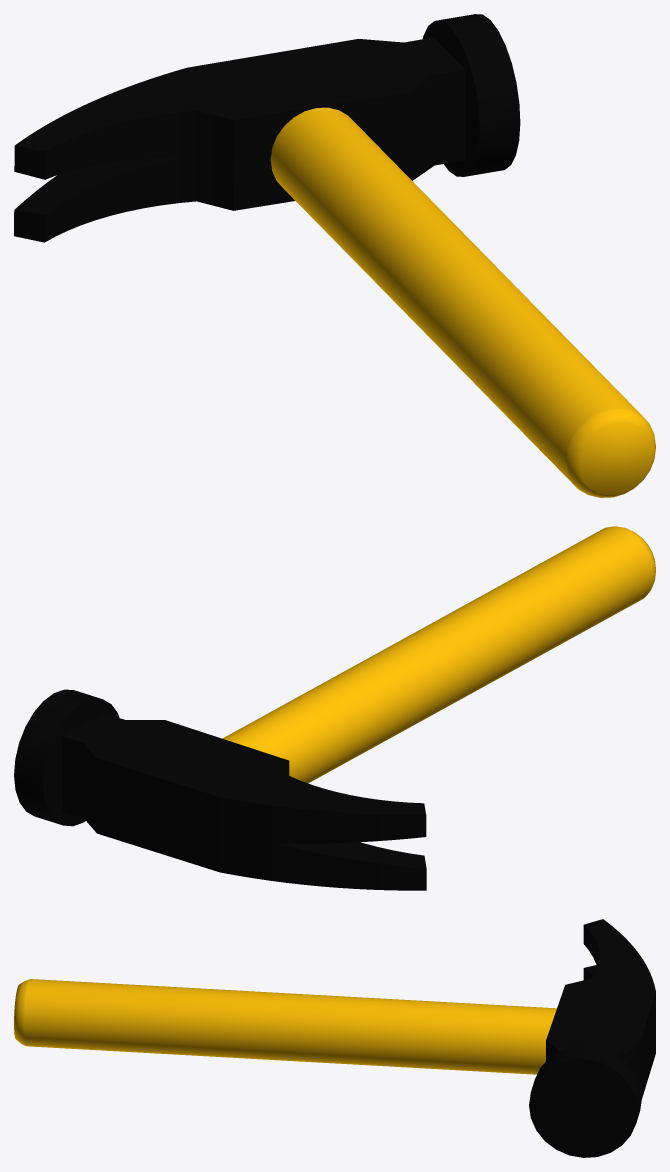
File: hammer_03_origin_gt_1.dae
The picture shows the model from 3 angles, top to bottom: view 1: azimuth 30°, elevation 25°; view 2: azimuth 150°, elevation 25°; view 3: azimuth 270°, elevation 25°; orthographic projection. The views are drawn at different scales.
Parts seen in each view (by area): view 1: Component_2 (×2), Component_3; view 2: Component_2 (×2), Component_3; view 3: Component_3, Component_2 (×2).
Part boxes in pixels (x1,y1,x2,y2): Component_2 (×2): (14, 14, 520, 242); Component_3: (270, 107, 655, 497); Component_2 (×2): (14, 689, 426, 890); Component_3: (222, 526, 655, 783); Component_3: (14, 979, 556, 1074); Component_2 (×2): (529, 919, 655, 1157).
Bounding box in the file's own units: 7.3 × 12.48 × 2.14.
